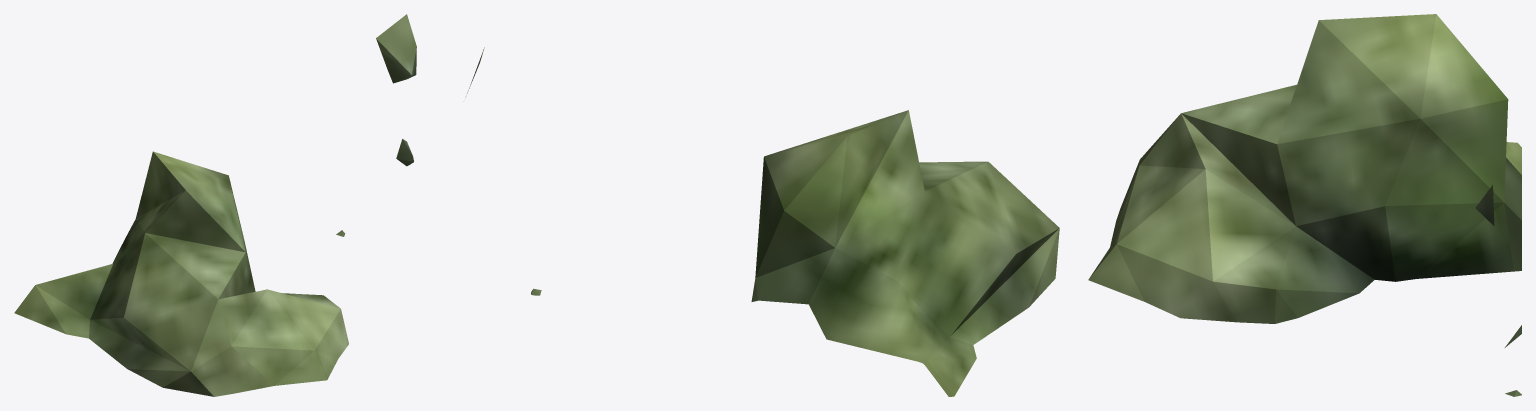
3 renders of one model, left to right at view 1: azimuth 30°, elevation 25°; view 2: azimuth 150°, elevation 25°; view 3: azimuth 270°, elevation 25°, orthographic. The views are drawn at different scales.
Size of the model in its own units: 20.59 by 10.09 by 13.43.
Materials: 1 (1 with a texture image).
